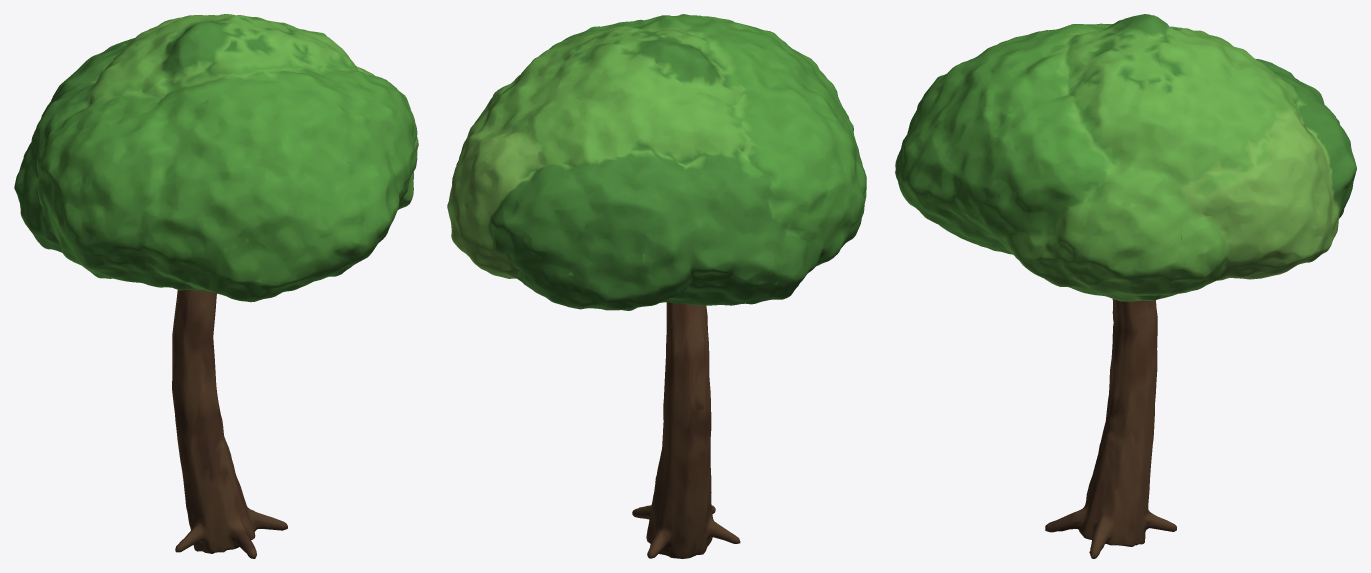
File: broadleaf_mature_irregular_continuous.glb
3 renders of one model, left to right at view 1: azimuth 30°, elevation 25°; view 2: azimuth 150°, elevation 25°; view 3: azimuth 270°, elevation 25°, orthographic. The views are drawn at different scales.
Visible parts, largest first — view 1: broadleaf_mature_irregular_continuous_LOD0; view 2: broadleaf_mature_irregular_continuous_LOD0; view 3: broadleaf_mature_irregular_continuous_LOD0.
Part boxes in pixels (bbox=[...]): broadleaf_mature_irregular_continuous_LOD0: bbox=[14, 14, 418, 558]; broadleaf_mature_irregular_continuous_LOD0: bbox=[447, 14, 866, 558]; broadleaf_mature_irregular_continuous_LOD0: bbox=[895, 14, 1356, 558].
Size of what is drawn, in the model's own units: 3.62 by 4.95 by 3.94.
